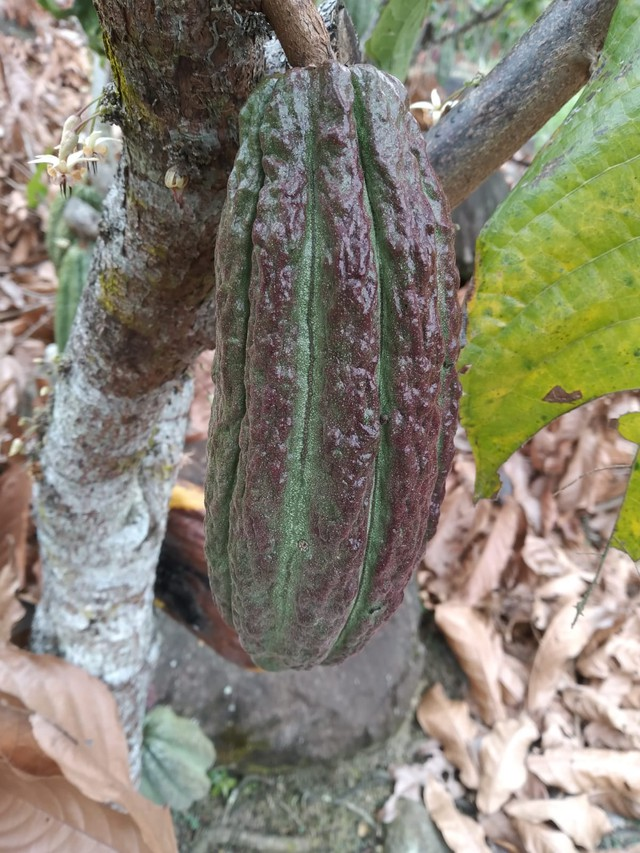Health: (197, 53, 467, 677)
